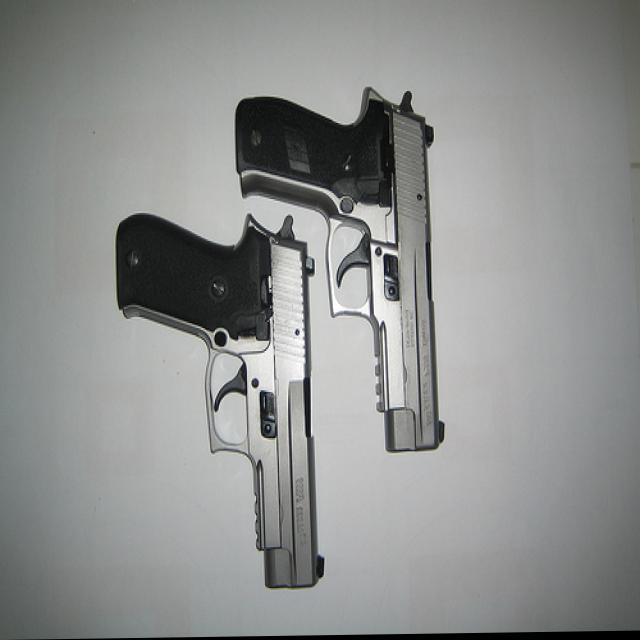handgun: (118, 210, 328, 589), (236, 83, 448, 453)
